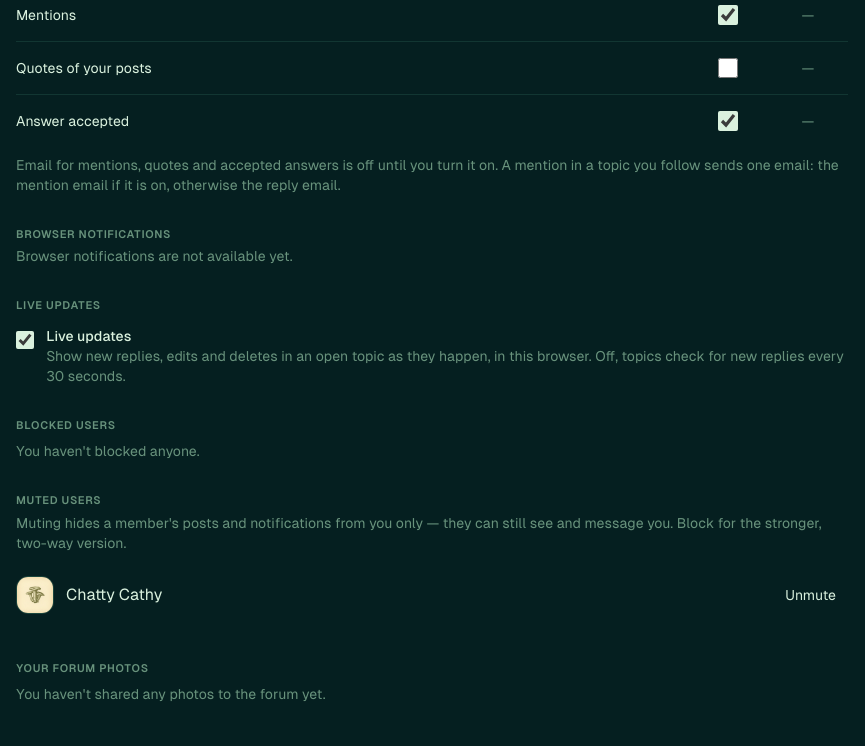
it: SettingsPage muted users (todo 347) › surfaces an error and keeps the row when Unmute fails
(page scrolled)
Expected: the text "Chatty Cathy" is shown, [66,582,162,606]
Click the button "Unmute" at (811, 594), box [773,572,848,616]
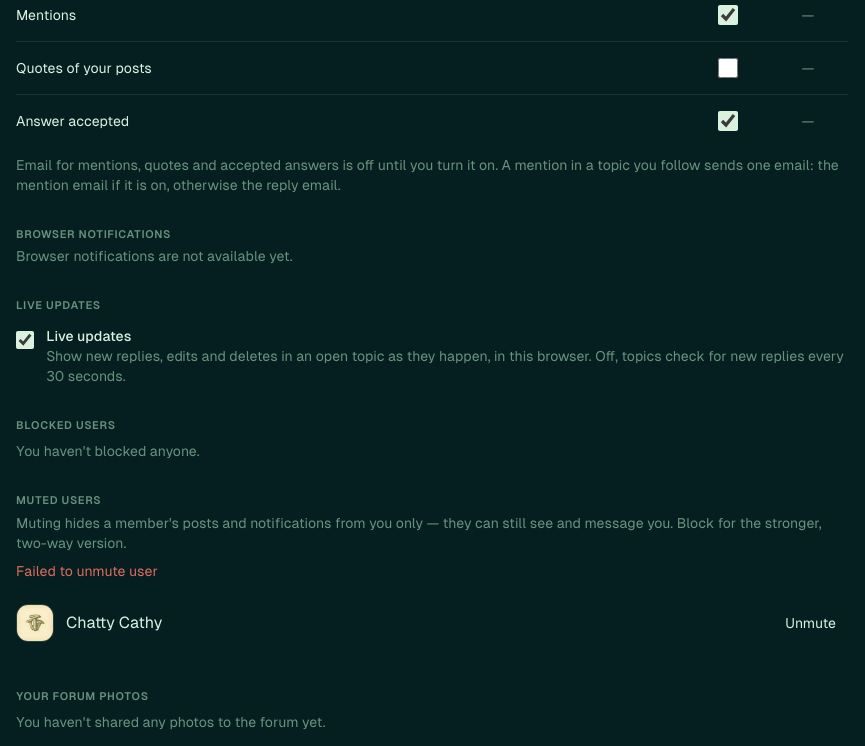
Expected: the text "Chatty Cathy" is shown, [66,610,162,634]
Now the text "Failed to unmute user" is shown, box [16,562,158,578]
